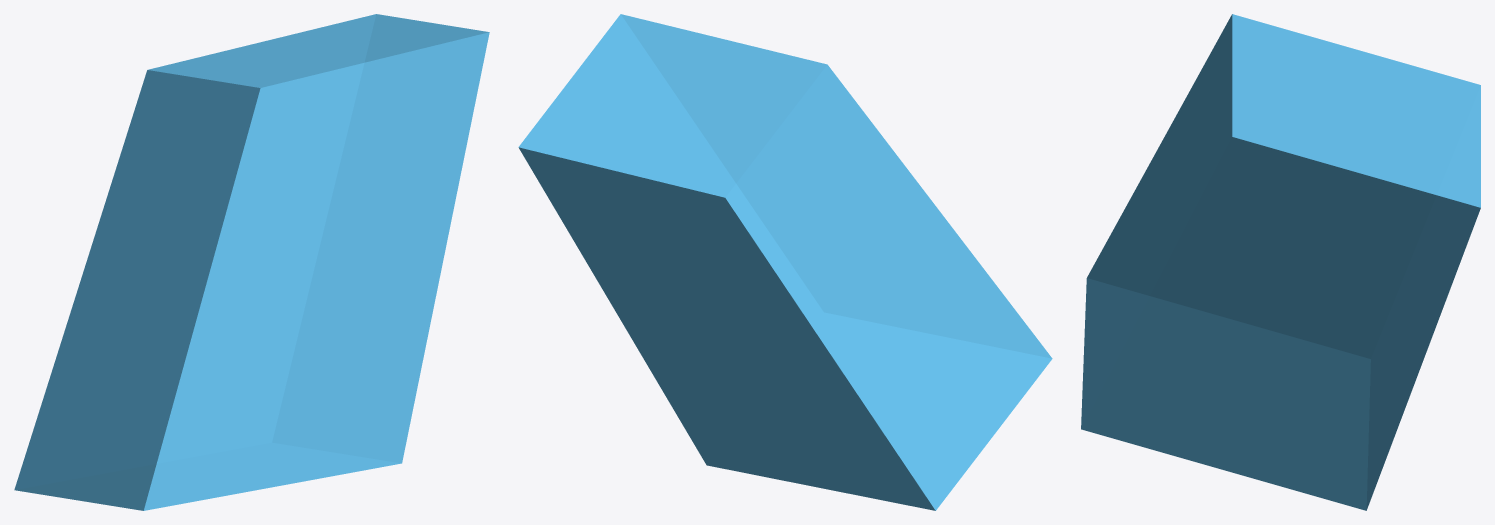
File: Event_421127236_HBrechit_7.fbx
3 views of the same model, side by side, from view 1: azimuth 30°, elevation 25°; view 2: azimuth 150°, elevation 25°; view 3: azimuth 270°, elevation 25° (orthographic). The views are drawn at different scales.
Parts seen in each view (by area): view 1: Model; view 2: Model; view 3: Model.
Boxes of the visible parts, x1,y1,x2,y2 form: Model: (14, 14, 489, 510); Model: (518, 14, 1052, 510); Model: (1081, 14, 1480, 510).
Bounding box in the file's own units: 0.8049 × 0.7781 × 0.6158.
